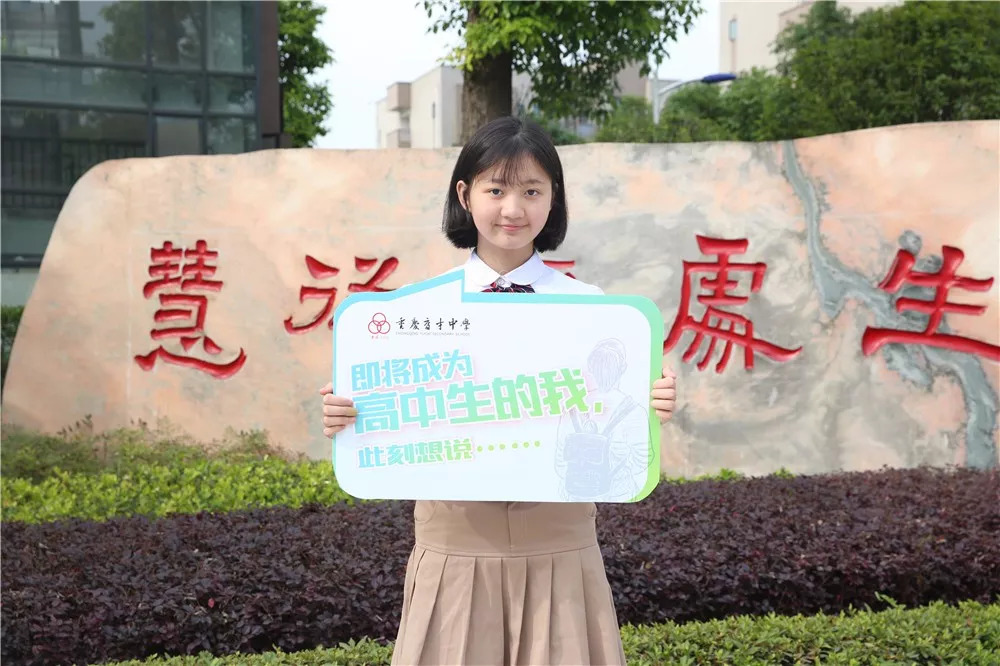other: (315, 115, 683, 666)
